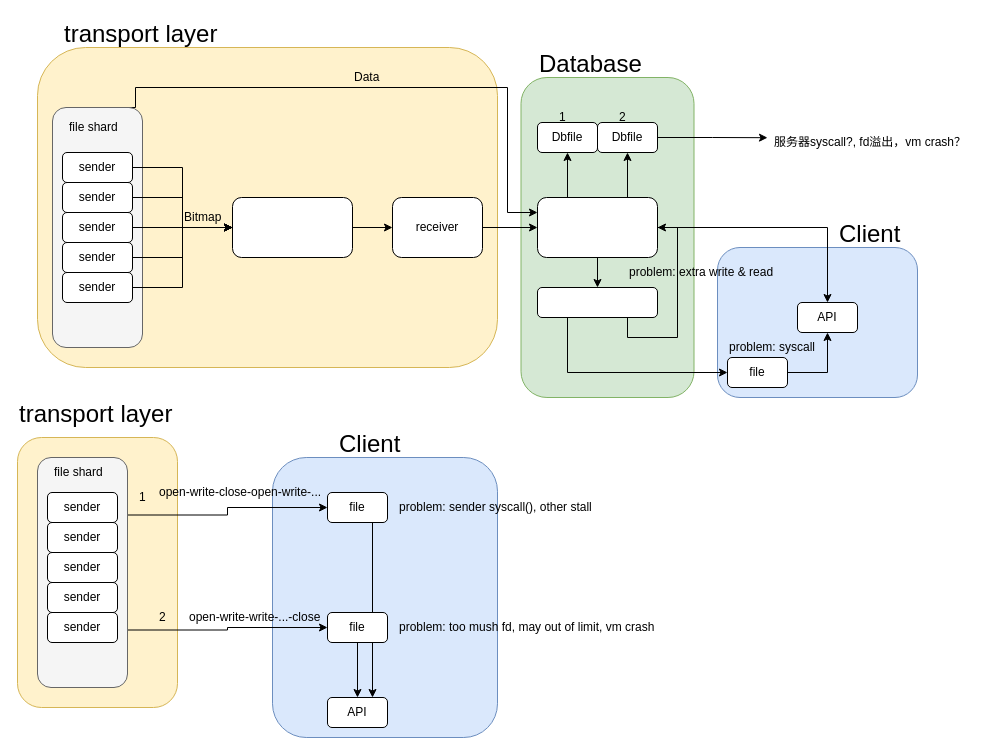
The diagram is 1000 pixels wide and 755 high, and some of its shapes have lost their labels. The box of each missing label's shape, as (x1, y1, x2, y2) in pixels:
detector: (232, 196, 352, 258)
if_intact: (536, 286, 658, 318)
Rocksdb: (536, 196, 658, 258)
